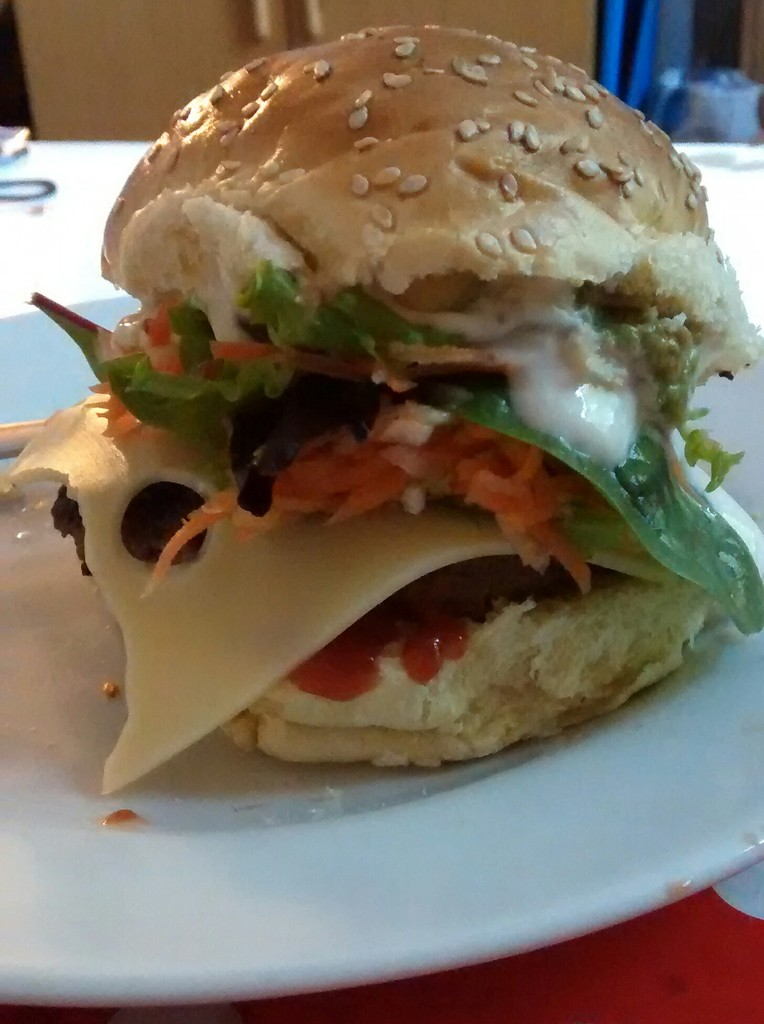Hamburger: (8, 23, 763, 798)
